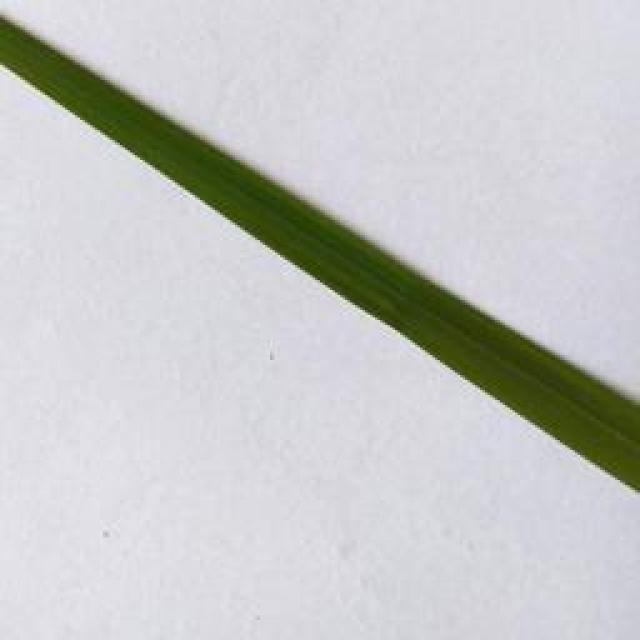Bacterial_Blight: (0, 12, 640, 486)
